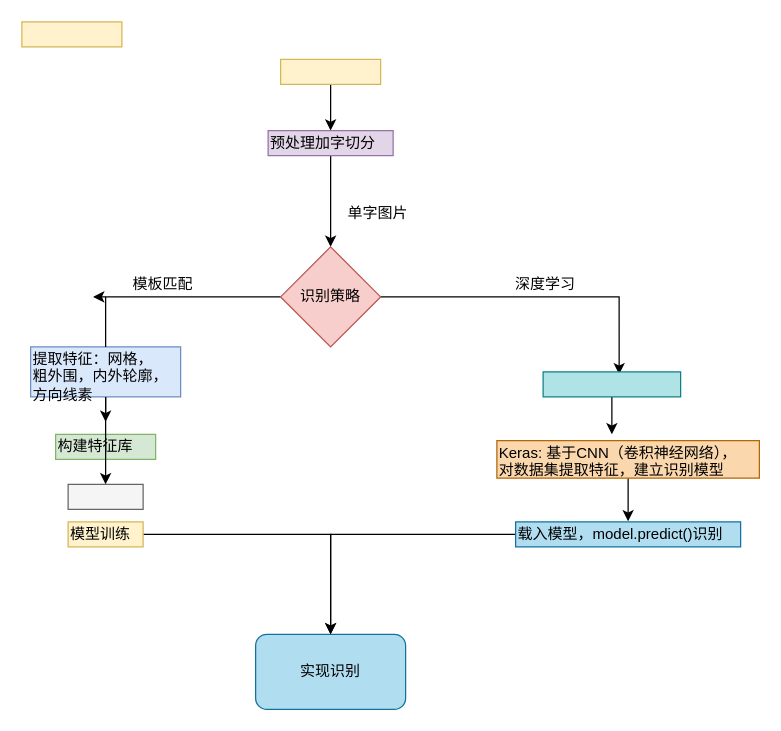
This 781x731 diagram has some shape labels left out. The shapes that lost their labels are listed below. From the top down, each one's centre as x and y in pixels, then its label:
At (x=71, y=34): "识别过程：".
At (x=330, y=71): "摄像头捕获".
At (x=611, y=384): "打造训练datasets".
At (x=105, y=496): "模版匹配".
